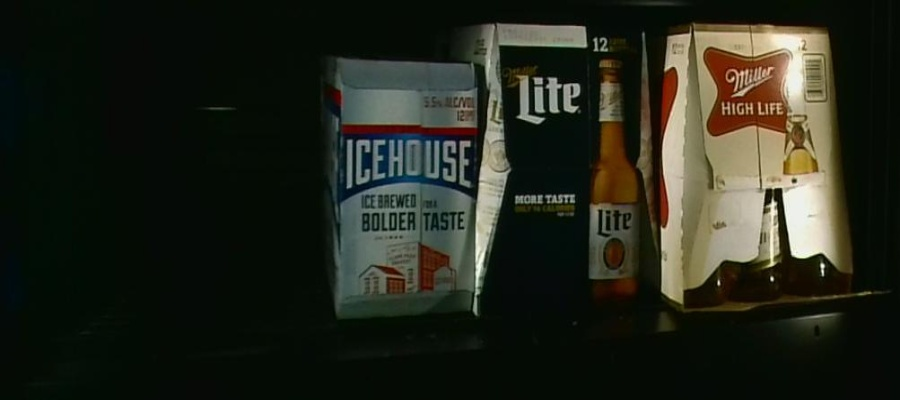bottle: (667, 19, 854, 304), (485, 22, 661, 310), (321, 51, 475, 315)
